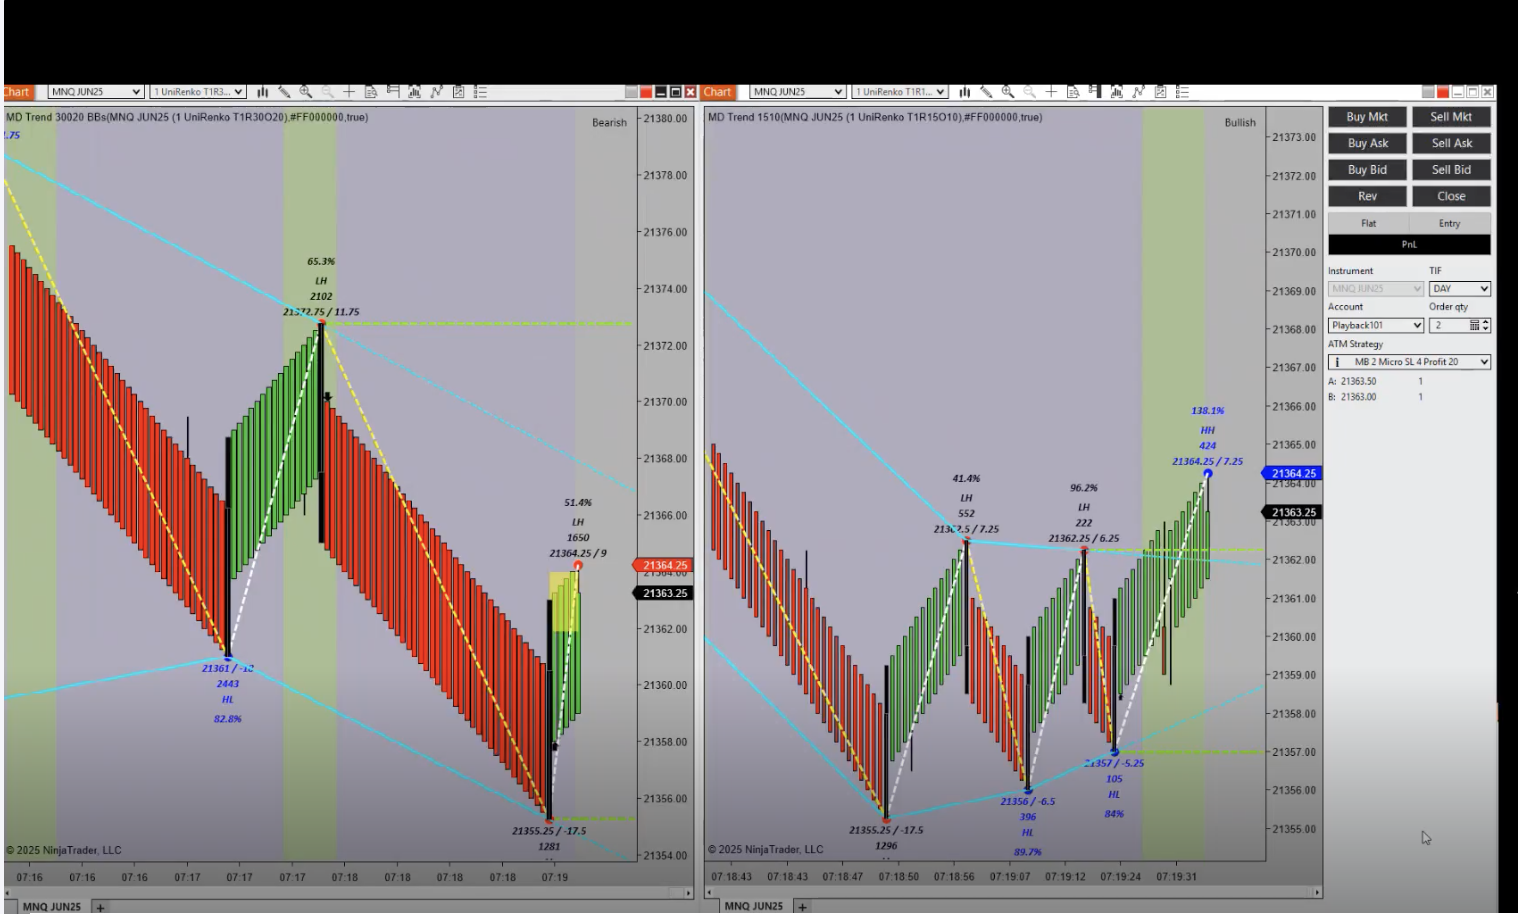candle: (316, 321, 326, 548), (542, 600, 553, 816), (223, 438, 232, 662), (882, 664, 893, 816), (1077, 548, 1088, 705), (962, 540, 972, 700), (1025, 638, 1034, 793), (1110, 598, 1119, 754)
